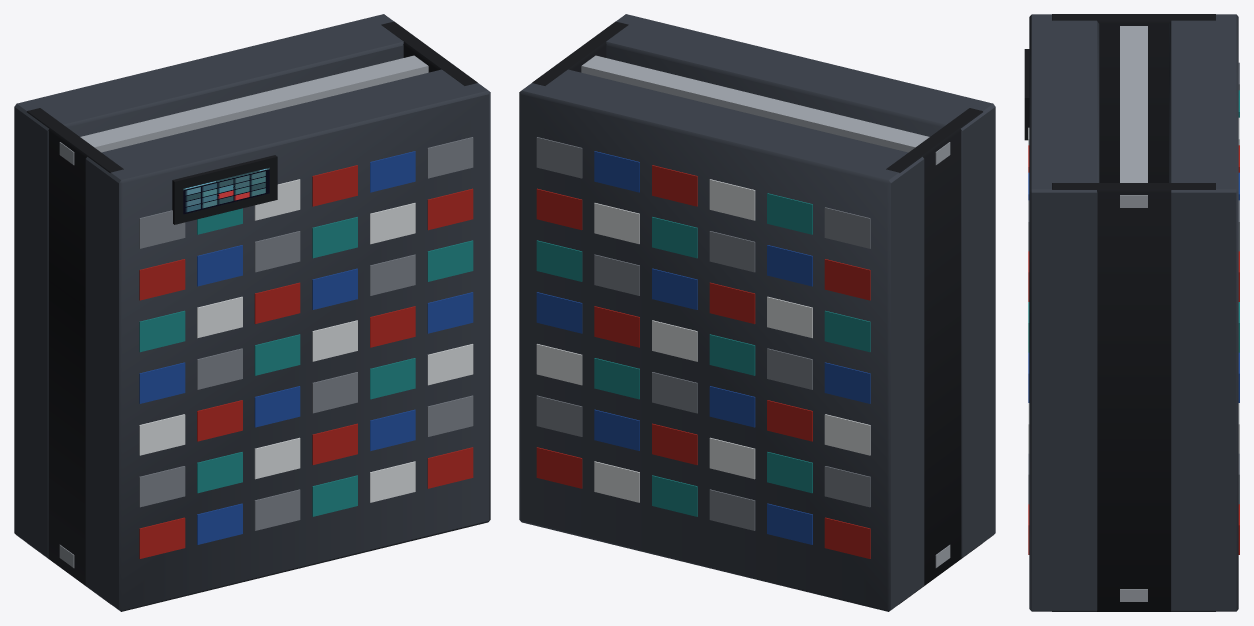
The model's file is storage_archive_robot.glb.
3 renders of one model, left to right at view 1: azimuth 30°, elevation 25°; view 2: azimuth 150°, elevation 25°; view 3: azimuth 270°, elevation 25°, orthographic. The views are drawn at different scales.
Visible parts, largest first — view 1: storage_archive_robot; view 2: storage_archive_robot; view 3: storage_archive_robot.
Part boxes in pixels (left/top/right/bottom): storage_archive_robot: left=14, top=14, right=490, bottom=611; storage_archive_robot: left=519, top=14, right=995, bottom=611; storage_archive_robot: left=1024, top=14, right=1239, bottom=611.
Size of the model in its own units: 1.81 by 2.01 by 0.928.
13 materials, 1 textured.
